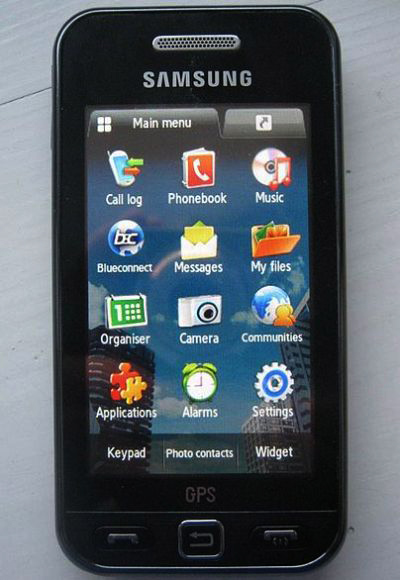mobile: (49, 3, 360, 574)
